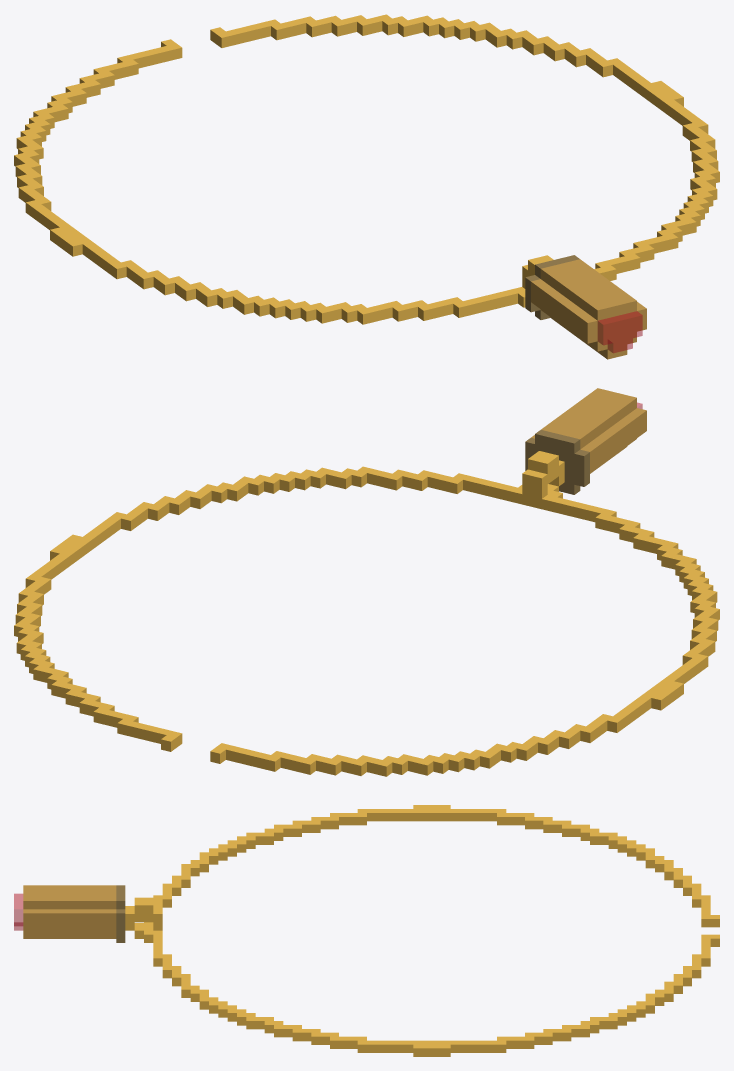
The model's file is fancy_pistol_cartridge_necklace.glb.
3 views of the same model, one above another, from view 1: azimuth 30°, elevation 25°; view 2: azimuth 150°, elevation 25°; view 3: azimuth 270°, elevation 25° (orthographic). The views are drawn at different scales.
Visible parts, largest first — view 1: fancy_pistol_cartridge_necklace:compound; view 2: fancy_pistol_cartridge_necklace:compound; view 3: fancy_pistol_cartridge_necklace:compound.
Boxes of the visible parts, bbox=[...] form: fancy_pistol_cartridge_necklace:compound: bbox=[14, 14, 719, 359]; fancy_pistol_cartridge_necklace:compound: bbox=[14, 388, 719, 776]; fancy_pistol_cartridge_necklace:compound: bbox=[14, 805, 719, 1056].
Bounding box in the file's own units: 0.124 × 0.01 × 0.152.
